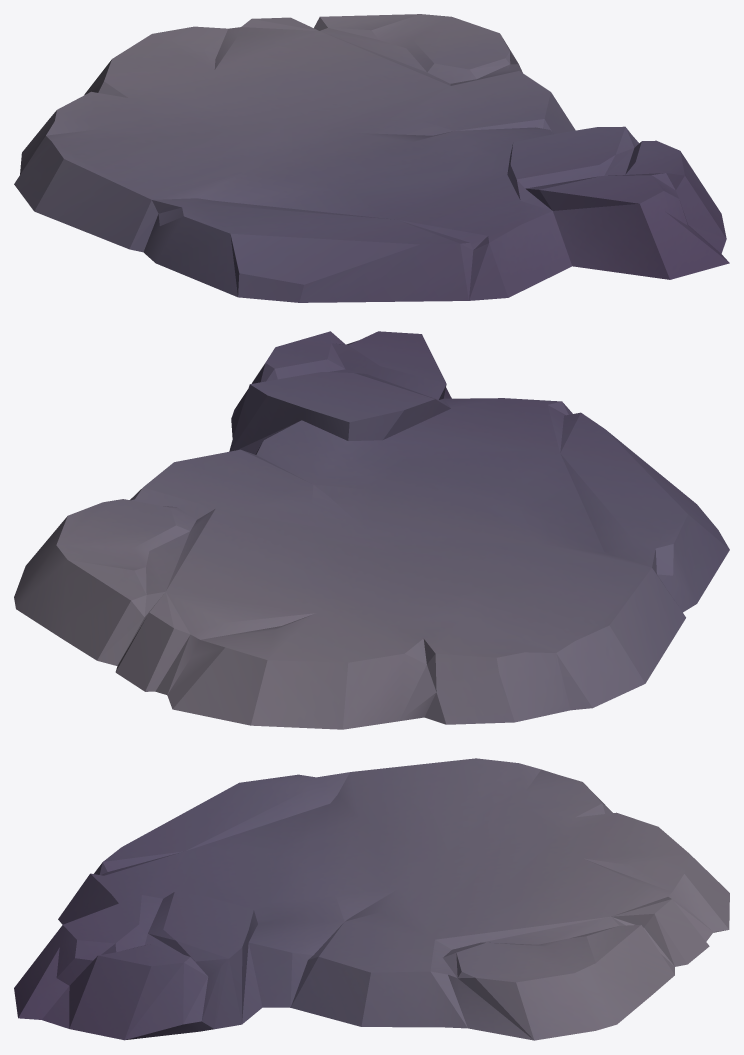
Rendered from rock_flat.002.fbx.
3 renders of one model, top to bottom at view 1: azimuth 30°, elevation 25°; view 2: azimuth 150°, elevation 25°; view 3: azimuth 270°, elevation 25°, orthographic. The views are drawn at different scales.
Parts seen in each view (by area): view 1: rock_flat.002; view 2: rock_flat.002; view 3: rock_flat.002.
Boxes of the visible parts, bbox=[...] form: rock_flat.002: bbox=[14, 14, 729, 302]; rock_flat.002: bbox=[14, 331, 729, 729]; rock_flat.002: bbox=[14, 758, 729, 1040].
Size of the model in its own units: 588 by 65.53 by 705.
